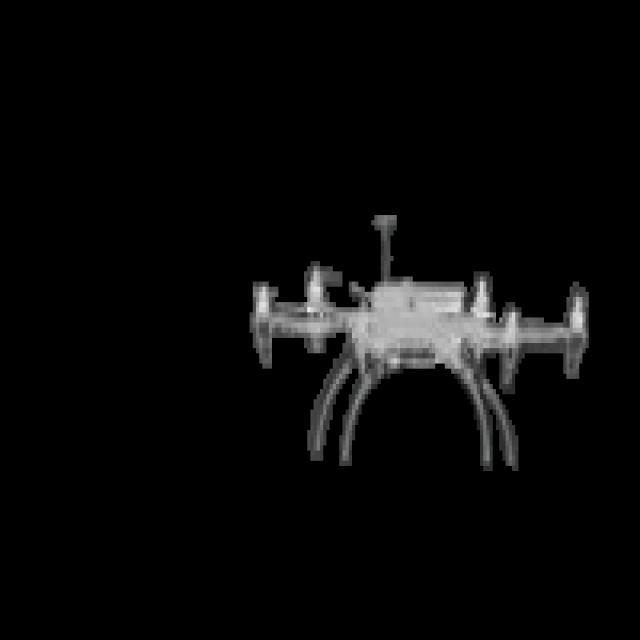drone: (221, 81, 613, 572)
